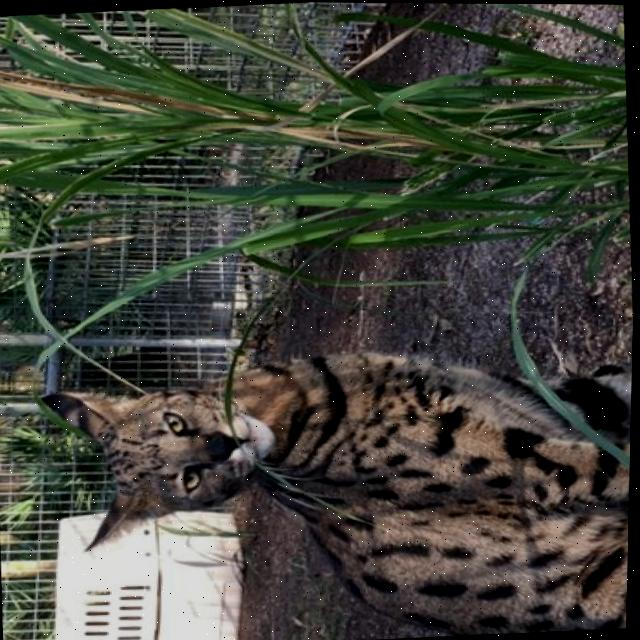Savannah: (31, 331, 634, 640)
